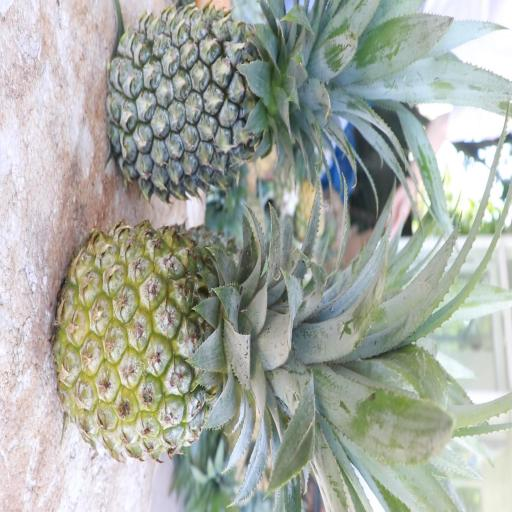------------------------------: (49, 221, 341, 470)
